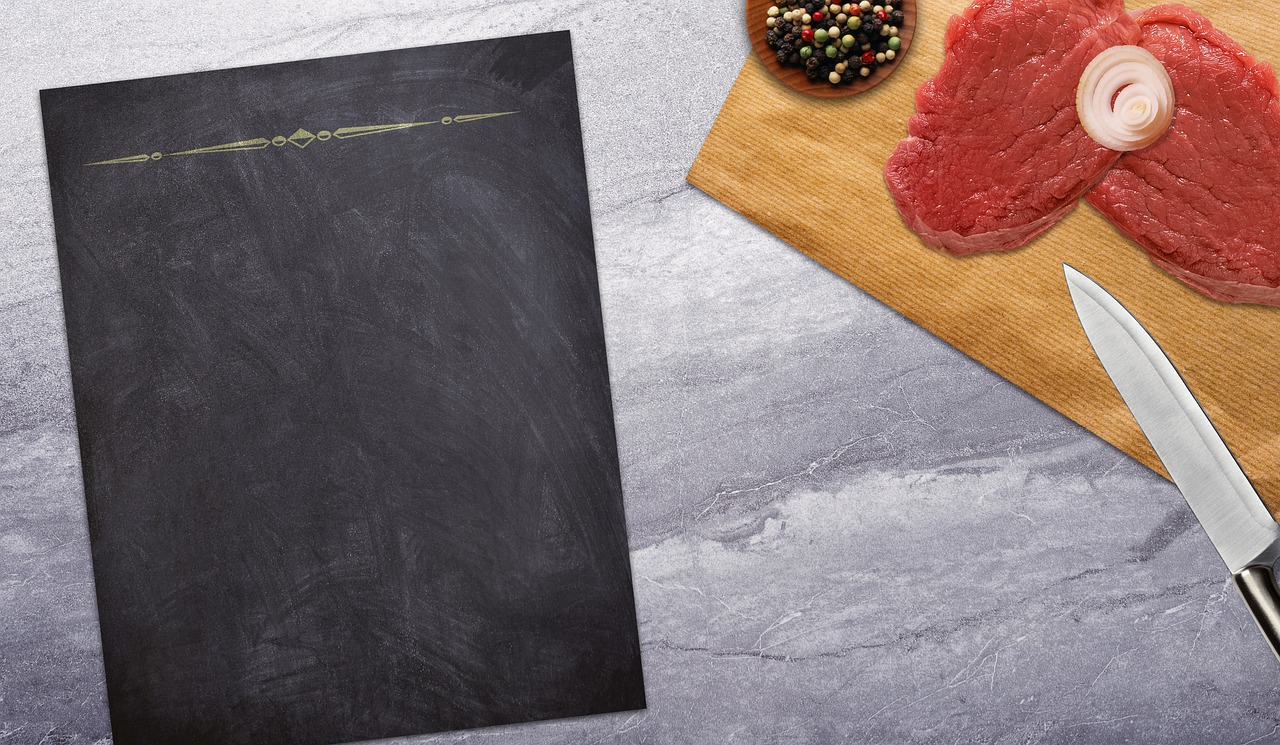knife: (1059, 261, 1280, 675)
